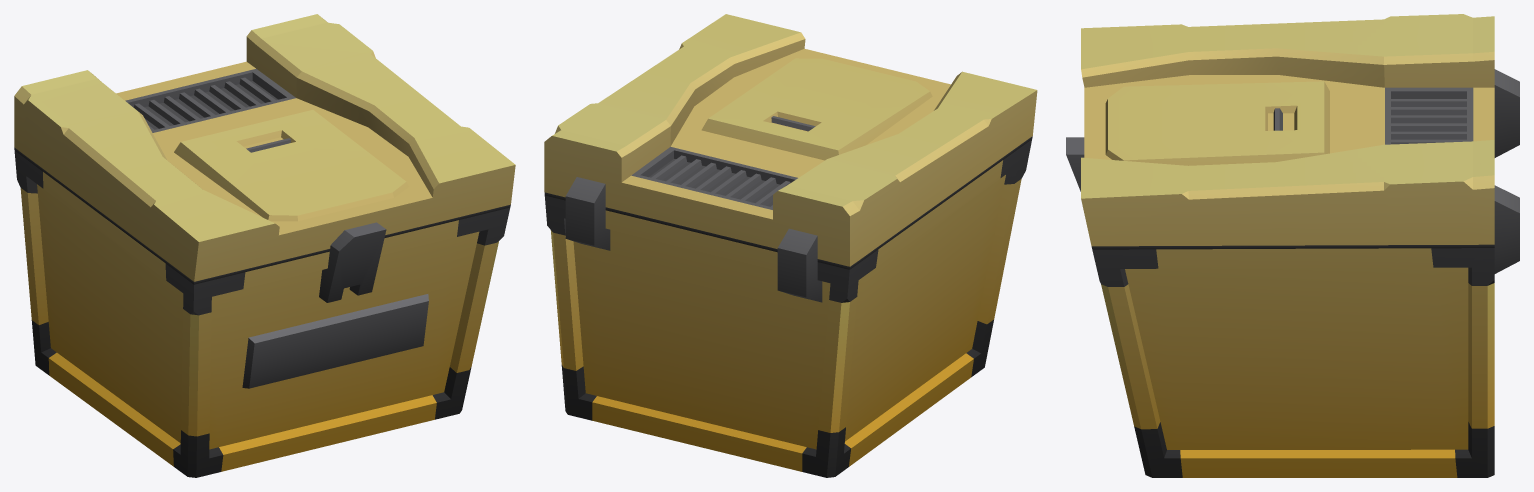
File: Resource.fbx
3 renders of one model, left to right at view 1: azimuth 30°, elevation 25°; view 2: azimuth 150°, elevation 25°; view 3: azimuth 270°, elevation 25°, orthographic. The views are drawn at different scales.
Parts seen in each view (by area): view 1: Resource; view 2: Resource; view 3: Resource.
Boxes of the visible parts, box(x1,y1,x2,y2) form: Resource: box(14, 14, 515, 477); Resource: box(544, 14, 1037, 477); Resource: box(1066, 14, 1519, 477).
Size of the model in its own units: 94.1 by 79.41 by 106.
